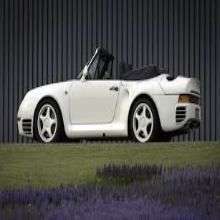no damage: (17, 46, 201, 145)
